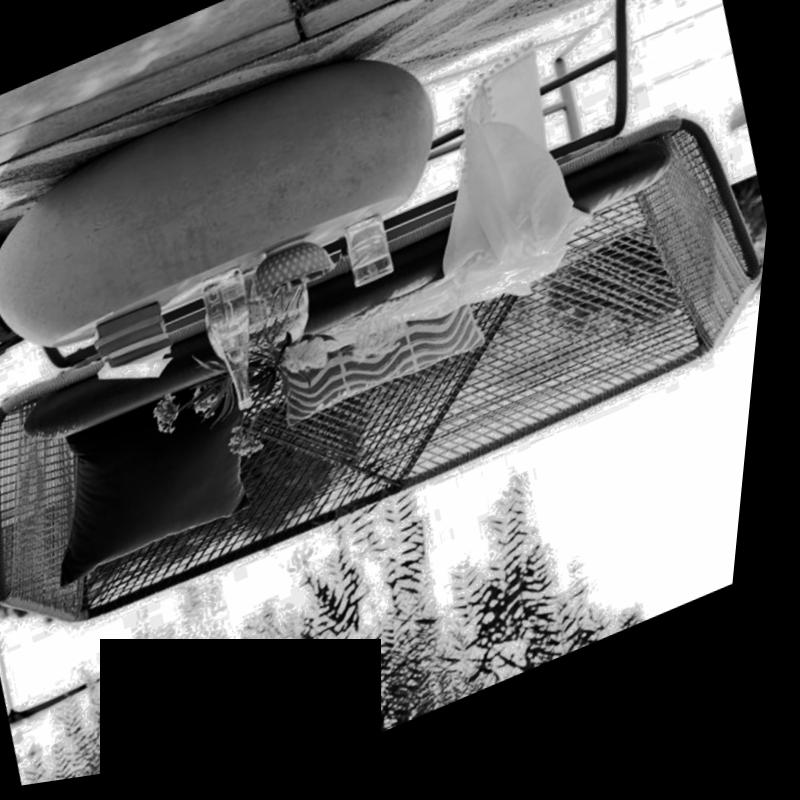pillow: (0, 310, 274, 611), (280, 310, 499, 443)
